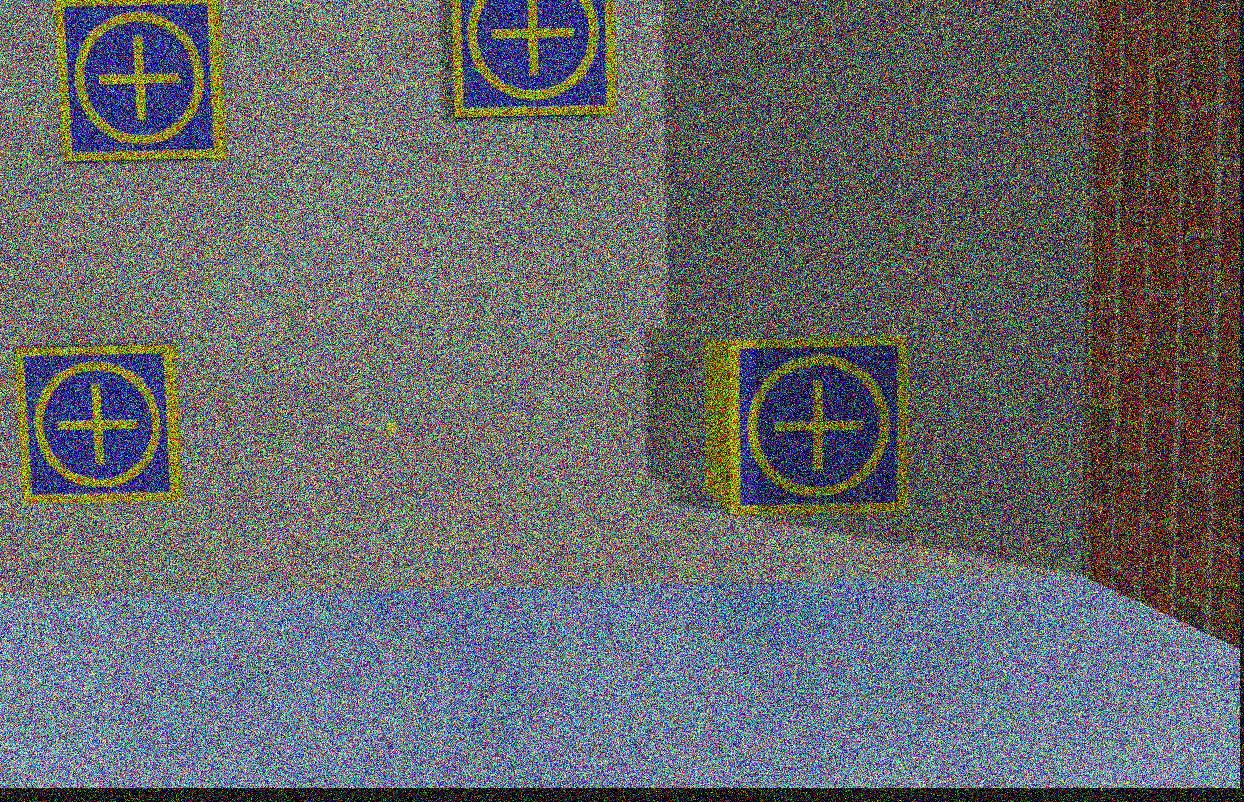small_base: (724, 335, 913, 519), (11, 340, 189, 507), (52, 1, 229, 163), (453, 1, 617, 118)
